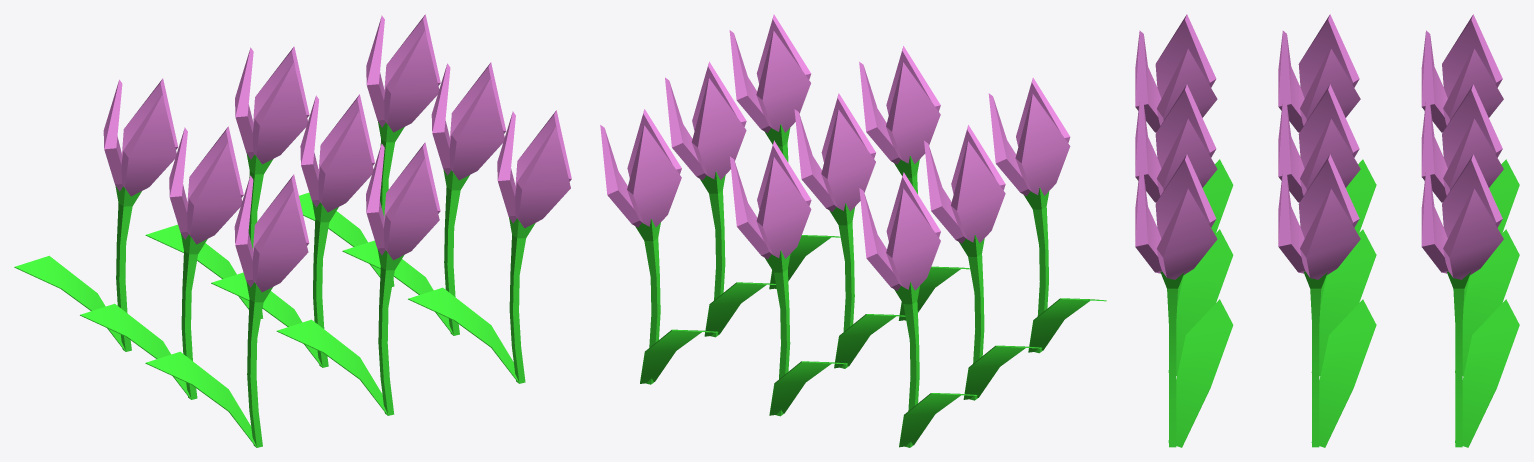
File: tulip3group.fbx
3 renders of one model, left to right at view 1: azimuth 30°, elevation 25°; view 2: azimuth 150°, elevation 25°; view 3: azimuth 270°, elevation 25°, orthographic. The views are drawn at different scales.
Parts seen in each view (by area): view 1: Object009; view 2: Object009; view 3: Object009.
Part boxes in pixels (left/top/right/bottom): Object009: left=14, top=14, right=571, bottom=447; Object009: left=600, top=14, right=1106, bottom=447; Object009: left=1135, top=14, right=1519, bottom=447.
Size of the model in its own units: 83.61 by 53.11 by 63.62.
